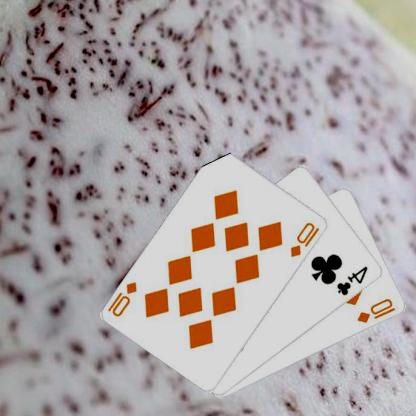10D: (289, 219, 323, 258), (106, 279, 140, 318), (357, 296, 399, 324)
4C: (336, 263, 371, 297)
